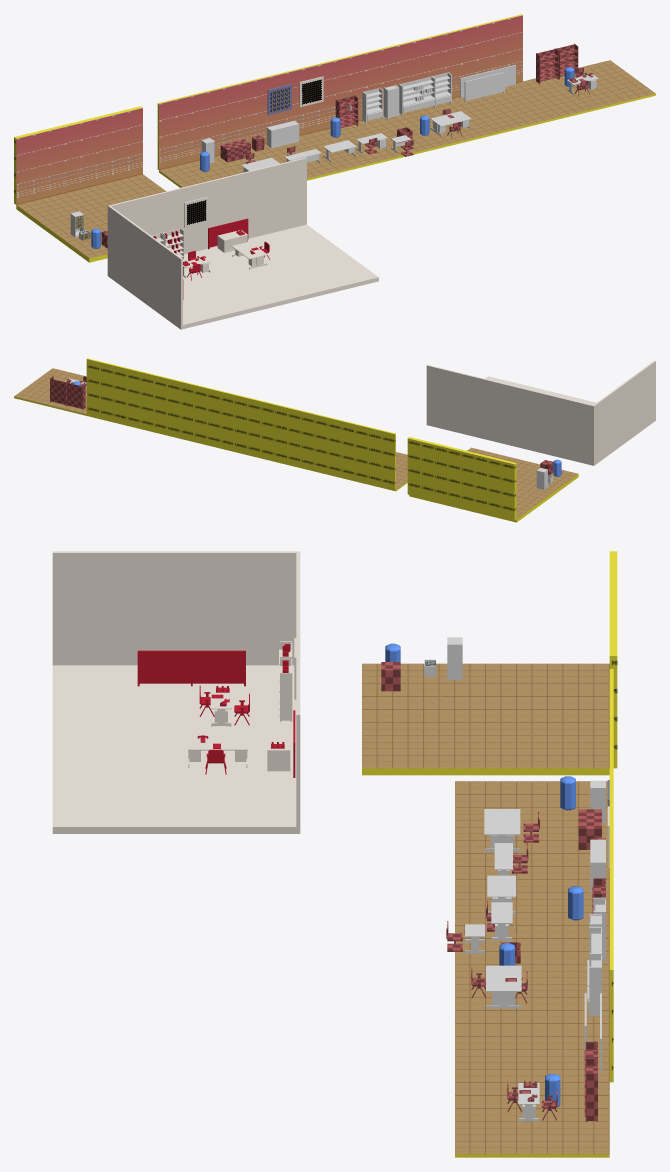
File: zoo_map.glb
3 views of the same model, one above another, from view 1: azimuth 30°, elevation 25°; view 2: azimuth 150°, elevation 25°; view 3: azimuth 270°, elevation 25° (orthographic). The views are drawn at different scales.
Parts seen in each view (by area): view 1: zoo_map; view 2: zoo_map; view 3: zoo_map.
Boxes of the visible parts, box(x1,y1,x2,y2) form: zoo_map: box(14, 14, 655, 329); zoo_map: box(14, 358, 655, 522); zoo_map: box(52, 551, 617, 1157).
Size of the model in its own units: 2400 by 272 by 1168.
Materials: 37 (11 with a texture image).
